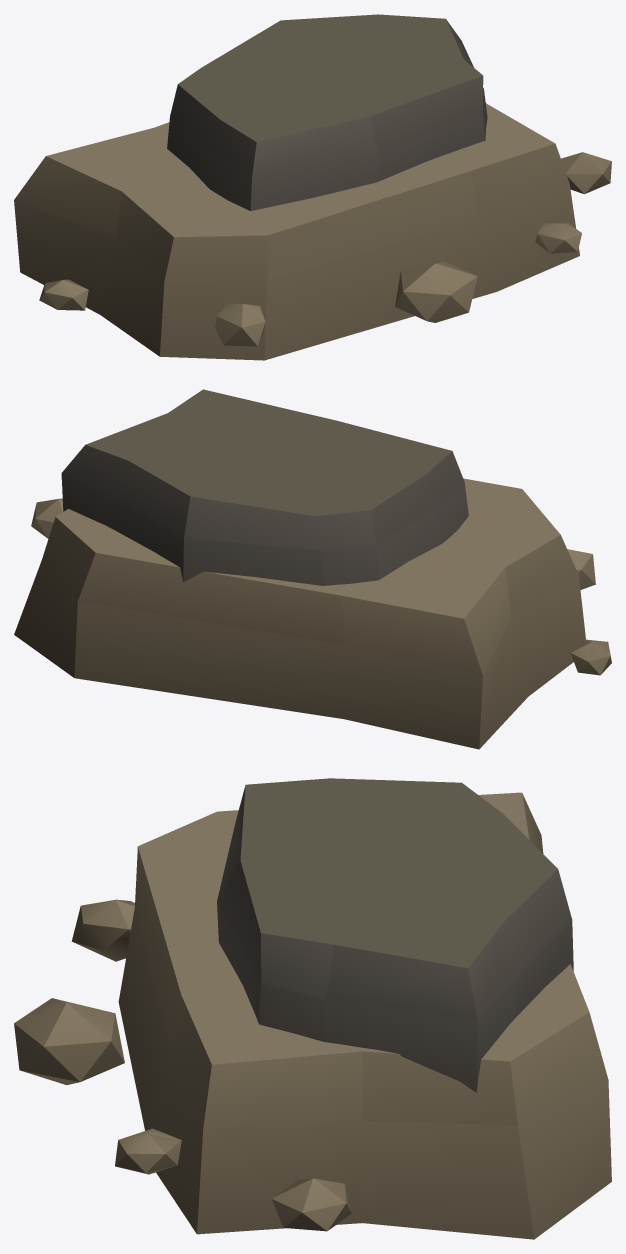
The model's file is barda_b.glb.
3 renders of one model, top to bottom at view 1: azimuth 30°, elevation 25°; view 2: azimuth 150°, elevation 25°; view 3: azimuth 270°, elevation 25°, orthographic. The views are drawn at different scales.
Parts seen in each view (by area): view 1: BardaB; view 2: BardaB; view 3: BardaB.
Boxes of the visible parts, left/top/right/bottom form: BardaB: left=14, top=14, right=611, bottom=360; BardaB: left=14, top=389, right=611, bottom=749; BardaB: left=14, top=778, right=611, bottom=1239.
Size of what is drawn, in the model's own units: 5.42 by 1.69 by 3.64.
